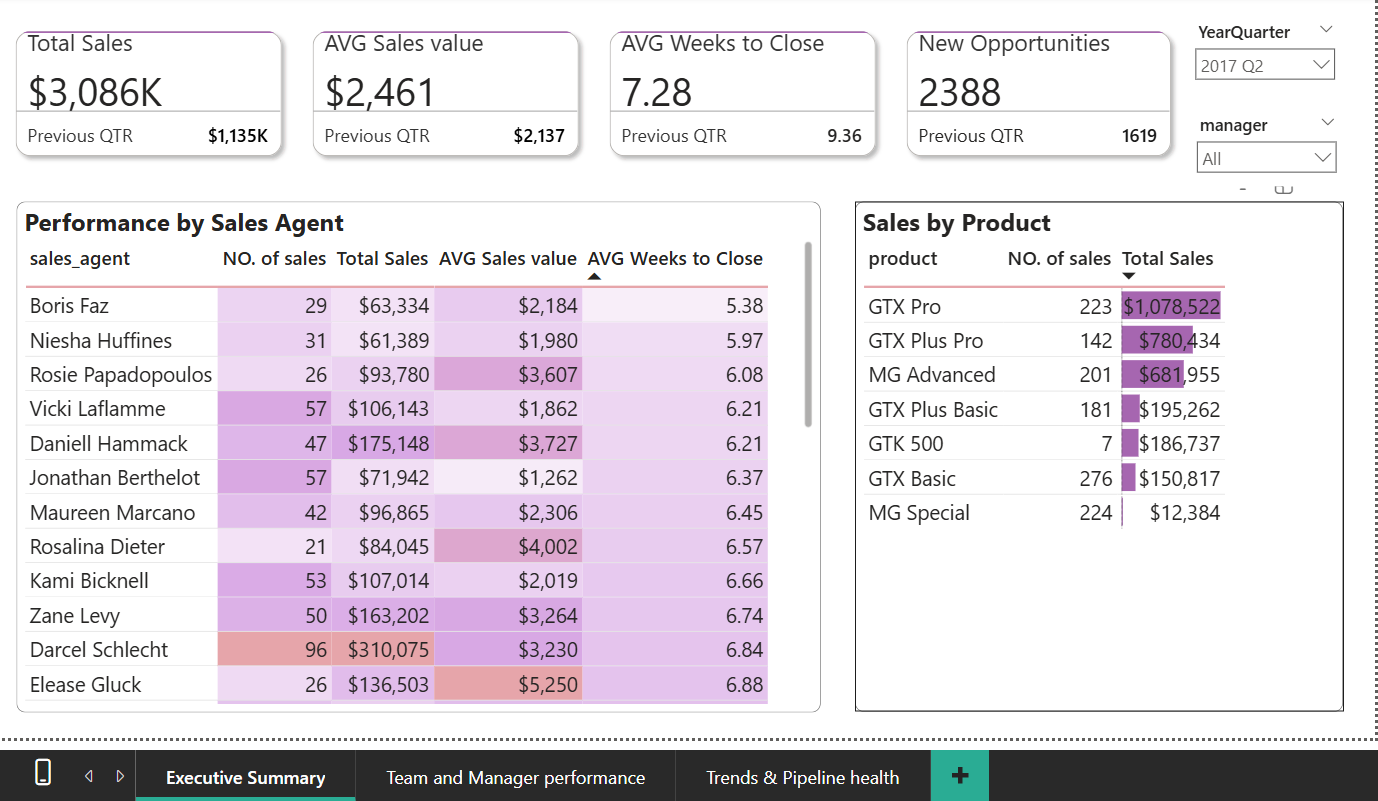

The dashboard page shown, as its layout file describes it:
{"tool":"powerbi","page":{"name":"Executive Summary","canvas":[1520,820],"ordinal":0},"visuals":[{"type":"slicer","fields":{"Values":["Dates.YearQuarter"]},"box":[1311,22,174.1,86.1],"z":0},{"type":"cardVisual","title":"Latest year ","fields":{"Data":["Sales_Pipeline.Total Sales"]},"box":[0,22,328.3,172.1],"z":1000},{"type":"cardVisual","title":"Latest year ","fields":{"Data":["Accounts.AVG Sales value"]},"box":[328.3,22,328.3,172.1],"z":2000},{"type":"cardVisual","title":"Latest year ","fields":{"Data":["Accounts.AVG Weeks to Close"]},"box":[656.5,22,328.3,172.1],"z":3000},{"type":"cardVisual","title":"Latest year ","fields":{"Data":["Accounts.New Opportunities"]},"box":[984.8,22,326.3,172.1],"z":4000},{"type":"tableEx","title":"Performance by Sales Agent","fields":{"Values":["Sales_Pipeline.sales_agent","Accounts.NO. of sales","Sales_Pipeline.Total Sales","Accounts.AVG Sales value","Accounts.AVG Weeks to Close"]},"box":[17.8,226.7,888.9,564.4],"z":5000},{"type":"tableEx","title":"Sales by Product","fields":{"Values":["Products.product","Accounts.NO. of sales","Sales_Pipeline.Total Sales"]},"box":[945.2,226.4,539.6,564.1],"z":6000},{"type":"slicer","fields":{"Values":["Sales_Team.manager"]},"box":[1313,124.1,174.1,86.1],"z":7000}]}

Visuals, with their boxes on the page's 1520x820 design canvas (x1, y1, x2, y2). These are canvas units, not pixel positions in the 1378x801 screenshot, which may show the page scaled, cropped or inside an application window:
slicer - Dates.YearQuarter: Rect(1311, 22, 1485, 108)
"Latest year " cardVisual: Rect(0, 22, 328, 194)
"Latest year " cardVisual: Rect(328, 22, 657, 194)
"Latest year " cardVisual: Rect(656, 22, 985, 194)
"Latest year " cardVisual: Rect(985, 22, 1311, 194)
"Performance by Sales Agent" tableEx: Rect(18, 227, 907, 791)
"Sales by Product" tableEx: Rect(945, 226, 1485, 790)
slicer - Sales_Team.manager: Rect(1313, 124, 1487, 210)
